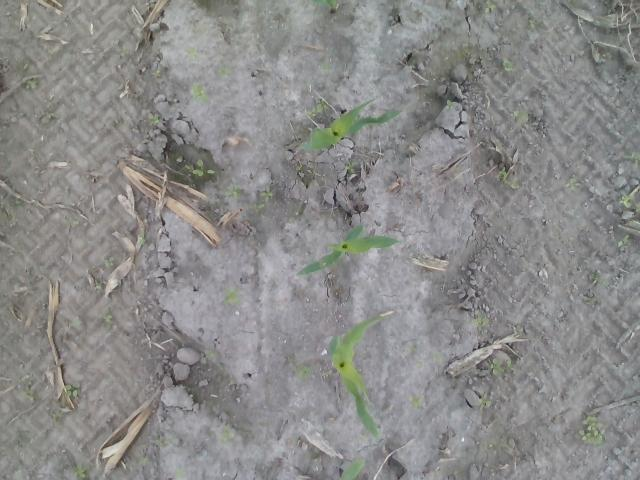Maize: (328, 314, 386, 443), (294, 221, 401, 276), (300, 96, 402, 149), (339, 457, 367, 480), (306, 0, 338, 13)
Weeds: (574, 412, 604, 445), (249, 185, 273, 217), (184, 158, 217, 176), (498, 168, 522, 190), (488, 358, 512, 378), (190, 82, 210, 103), (470, 310, 490, 330), (619, 194, 640, 213), (217, 424, 234, 446), (223, 286, 240, 306), (71, 462, 88, 480), (304, 102, 322, 118), (216, 62, 232, 80), (407, 392, 424, 408), (510, 110, 530, 123), (478, 392, 496, 406), (64, 382, 80, 397), (200, 350, 216, 365), (294, 364, 312, 377), (40, 110, 58, 123), (223, 184, 240, 197), (147, 111, 161, 126), (51, 409, 68, 421), (629, 150, 640, 168), (500, 57, 513, 72), (482, 0, 496, 13), (102, 314, 114, 328), (616, 234, 630, 246), (20, 390, 35, 401), (188, 47, 200, 60), (26, 78, 40, 89), (526, 17, 536, 32), (406, 342, 418, 354), (174, 468, 186, 480), (345, 162, 357, 174), (567, 176, 576, 192), (103, 256, 114, 268), (432, 352, 446, 360), (319, 63, 329, 72), (95, 280, 104, 289), (152, 70, 162, 78), (136, 234, 144, 244), (446, 100, 454, 108), (296, 166, 300, 171)
